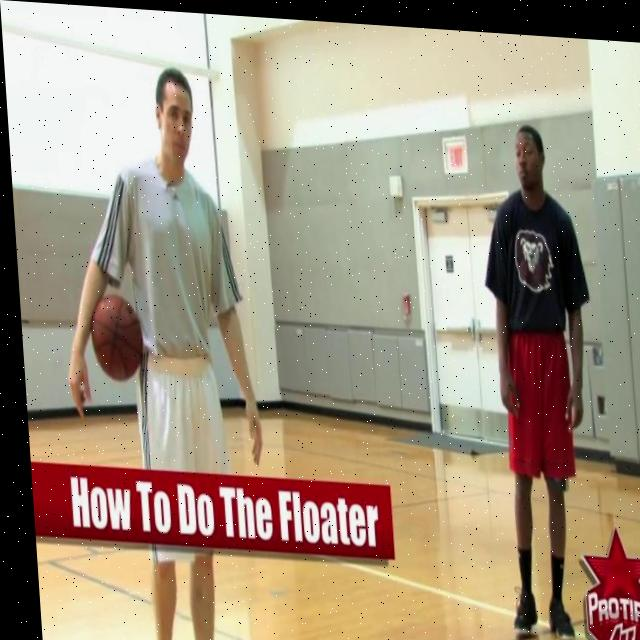Basketball: (89, 293, 146, 383)
